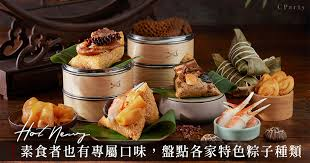zongzi: (98, 82, 158, 139), (69, 28, 124, 69), (174, 54, 220, 97), (227, 28, 269, 75), (212, 53, 256, 86)
